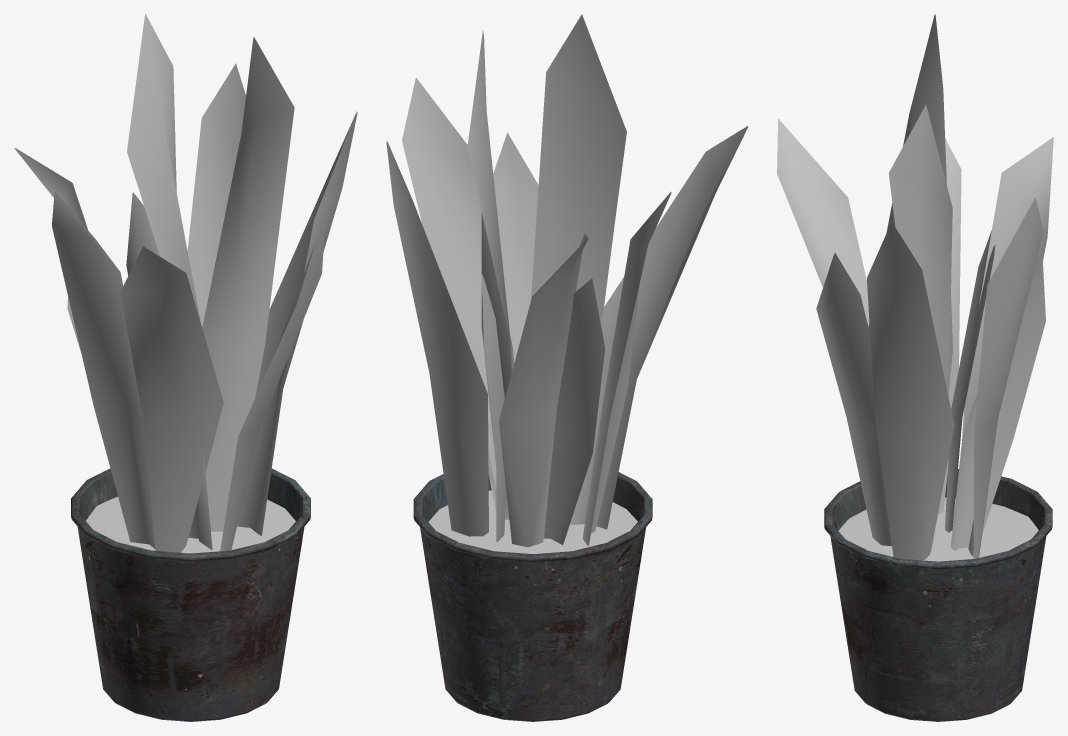
File: SM_PlantA.FBX
3 views of the same model, side by side, from view 1: azimuth 30°, elevation 25°; view 2: azimuth 150°, elevation 25°; view 3: azimuth 270°, elevation 25° (orthographic). The views are drawn at different scales.
Visible parts, largest first — view 1: SM_PlantA_LOD0; view 2: SM_PlantA_LOD0; view 3: SM_PlantA_LOD0.
Boxes of the visible parts, box(x1,y1,x2,y2) form: SM_PlantA_LOD0: box(14, 14, 357, 721); SM_PlantA_LOD0: box(386, 14, 748, 721); SM_PlantA_LOD0: box(777, 14, 1053, 721).
Size of what is drawn, in the model's own units: 43.83 by 102 by 39.38.
